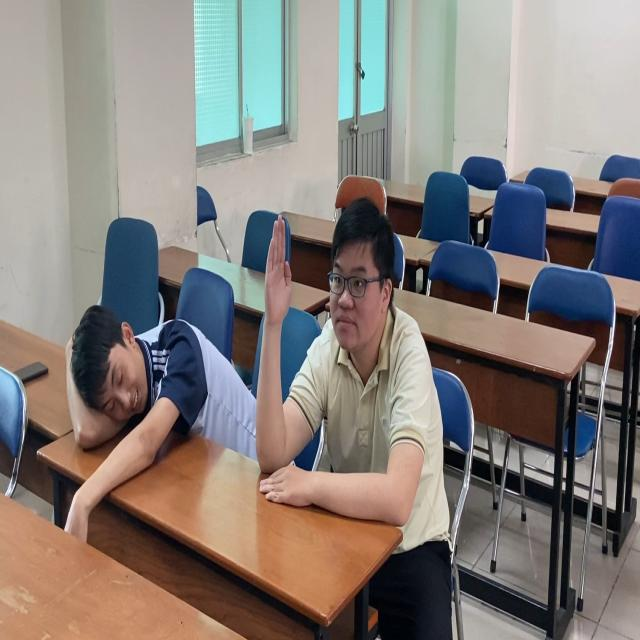raise_hand: (257, 197, 449, 538)
sleep: (53, 292, 255, 464)
